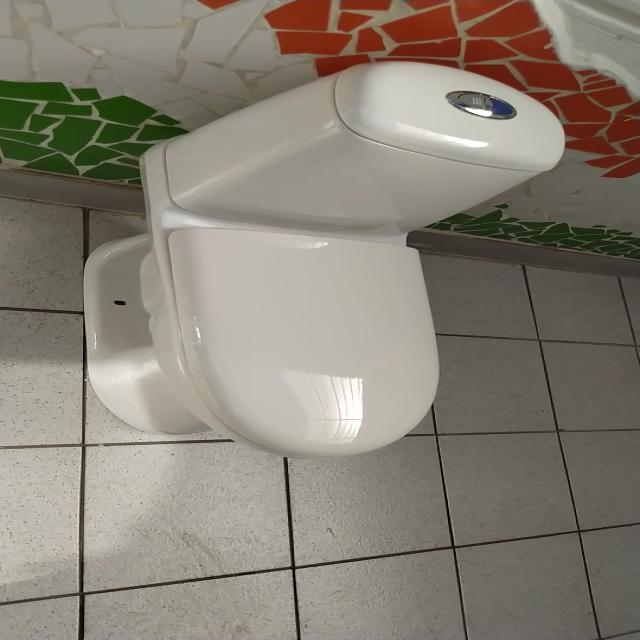toilet: (74, 55, 572, 467)
